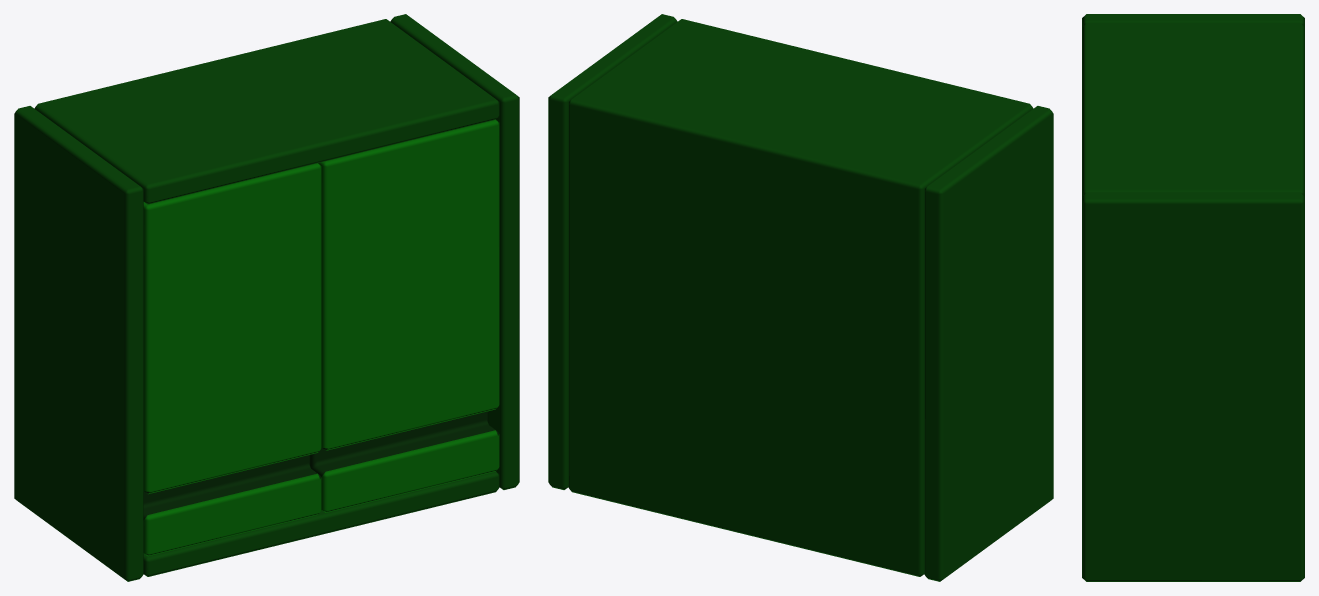
3 views of the same model, side by side, from view 1: azimuth 30°, elevation 25°; view 2: azimuth 150°, elevation 25°; view 3: azimuth 270°, elevation 25° (orthographic). The views are drawn at different scales.
Parts seen in each view (by area): view 1: Plane.582; view 2: Plane.582; view 3: Plane.582.
Boxes of the visible parts, left/top/right/bottom form: Plane.582: left=14, top=14, right=519, bottom=581; Plane.582: left=548, top=14, right=1053, bottom=581; Plane.582: left=1082, top=14, right=1304, bottom=581.
Bounding box in the file's own units: 1 × 0.95 × 0.5.
